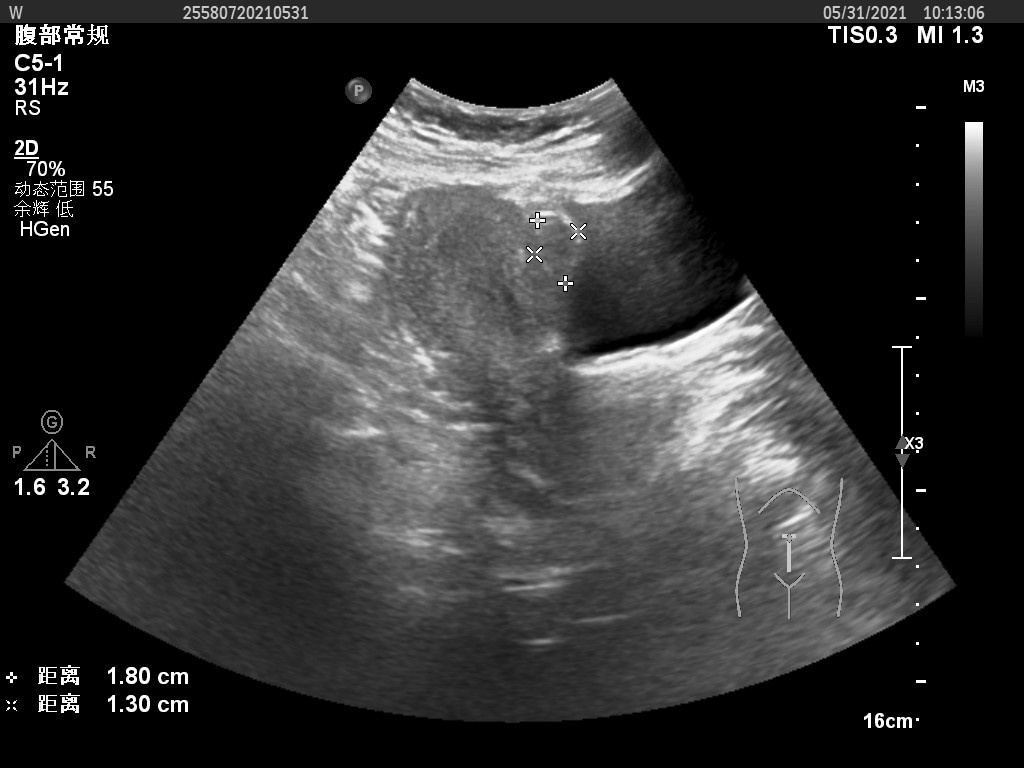肌瘤: (529, 220, 581, 272)
